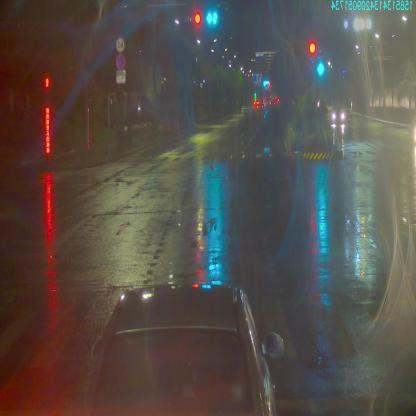traffic-light: (206, 10, 220, 26), (194, 12, 202, 31)
